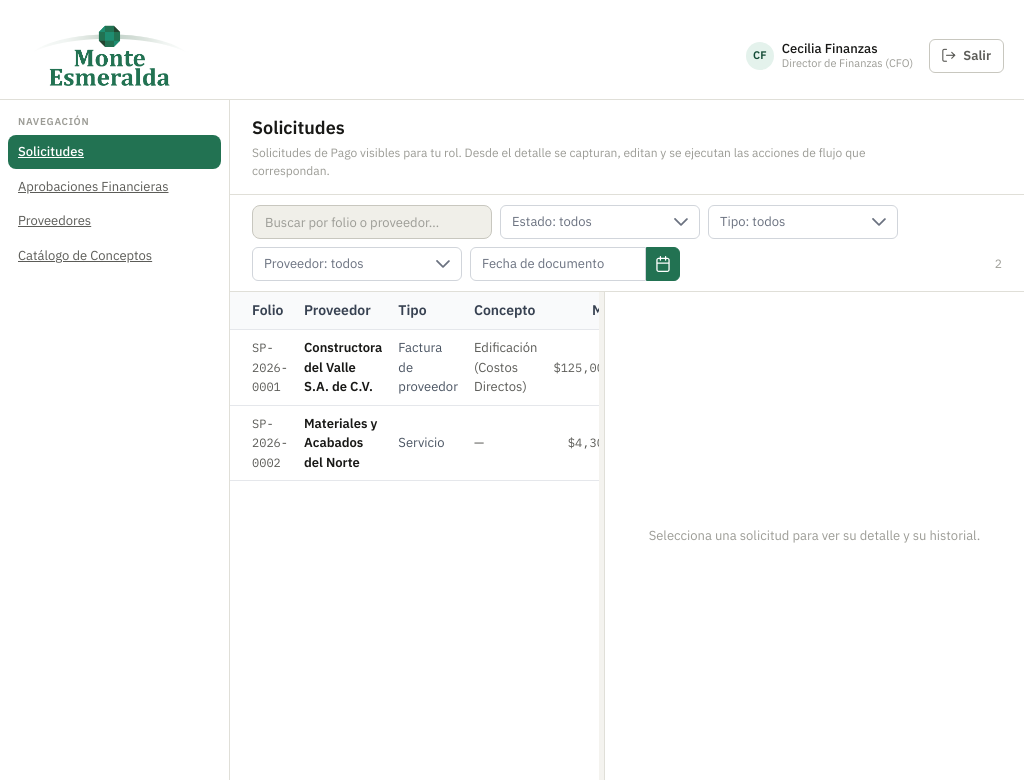
la línea de tiempo muestra los eventos en orden cronológico con su etiqueta
Click the text "SP-2026-0001" at [263, 348], box [252, 340, 288, 394]
(page scrolled)
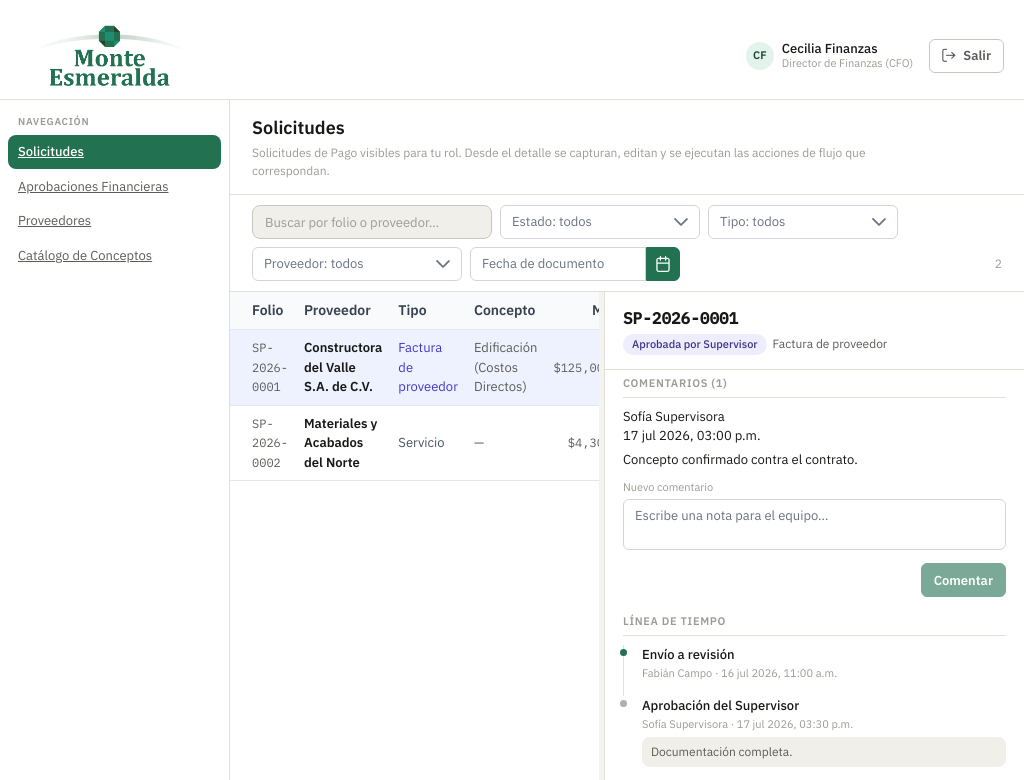
Expected: the text "Línea de tiempo" is shown, [623, 613, 1006, 636]
Expected: the number of list items with class "timeline-item" is 2, [623, 644, 1006, 696]; [623, 696, 1006, 766]
Expected: the list item with class "timeline-item" shows "Envío a revisión", [642, 646, 735, 662]
